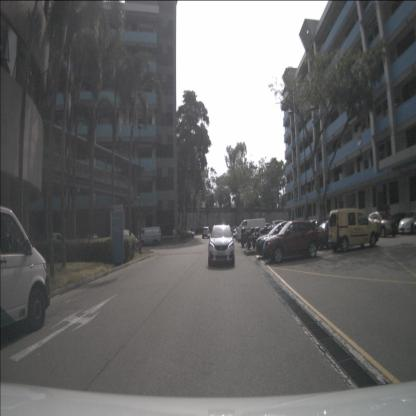human-pedestrian-adult: (177, 226, 181, 246), (172, 226, 176, 245)
vehicle-car: (0, 206, 50, 332), (263, 221, 319, 264), (328, 209, 379, 252), (256, 220, 308, 258), (314, 219, 356, 249), (208, 225, 235, 267), (367, 211, 398, 237), (237, 219, 266, 242), (115, 229, 141, 253), (136, 227, 161, 246), (398, 210, 416, 235), (41, 232, 65, 249), (178, 230, 195, 238), (202, 226, 210, 238)
vehicle-motorcycle: (245, 227, 252, 250), (240, 225, 246, 247), (255, 226, 260, 249), (251, 227, 256, 250)
